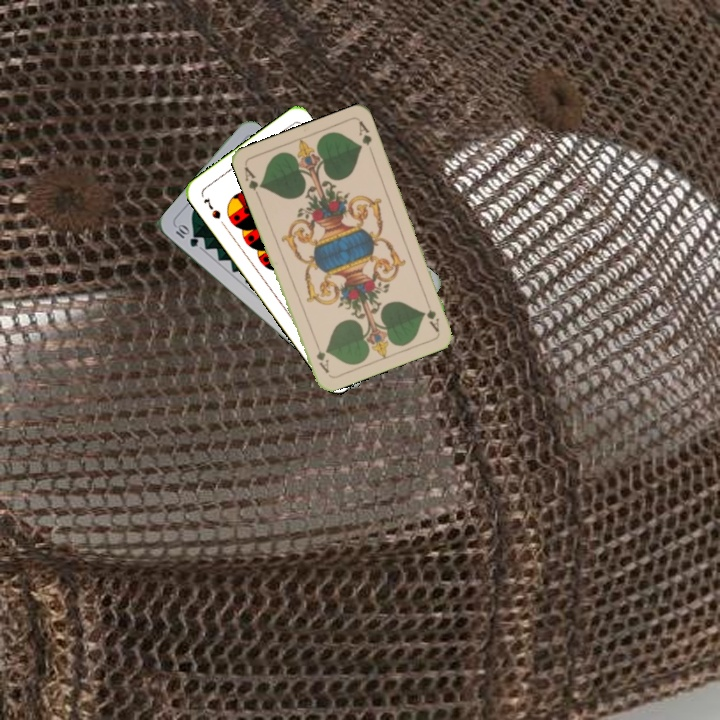G10: (171, 221, 201, 250)
GA: (240, 162, 265, 201), (421, 295, 442, 334)
S7: (199, 194, 223, 222)
